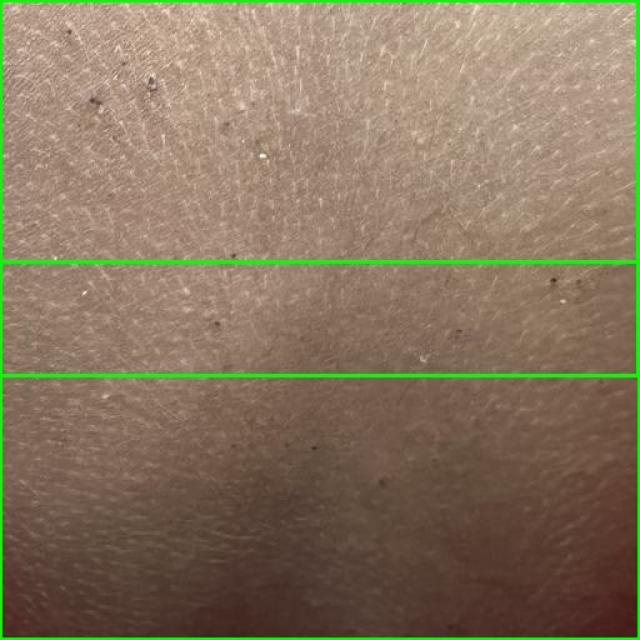Contact Dermatitis: (0, 261, 639, 639), (0, 0, 639, 376)
